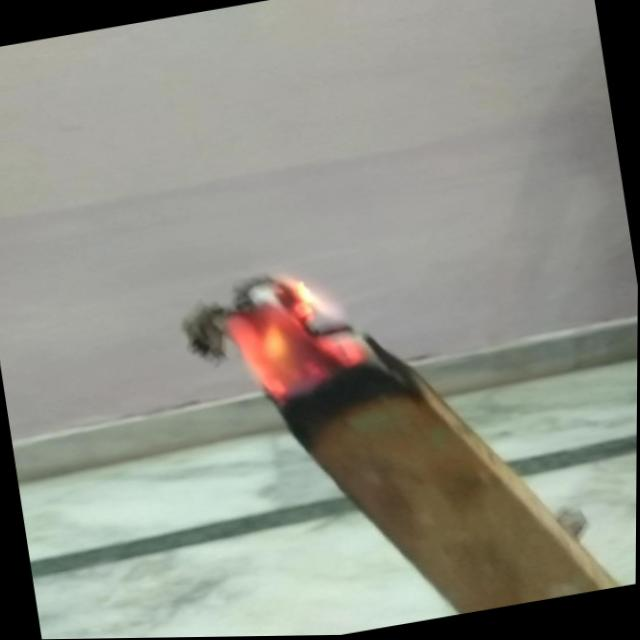fire: (218, 259, 371, 407)
